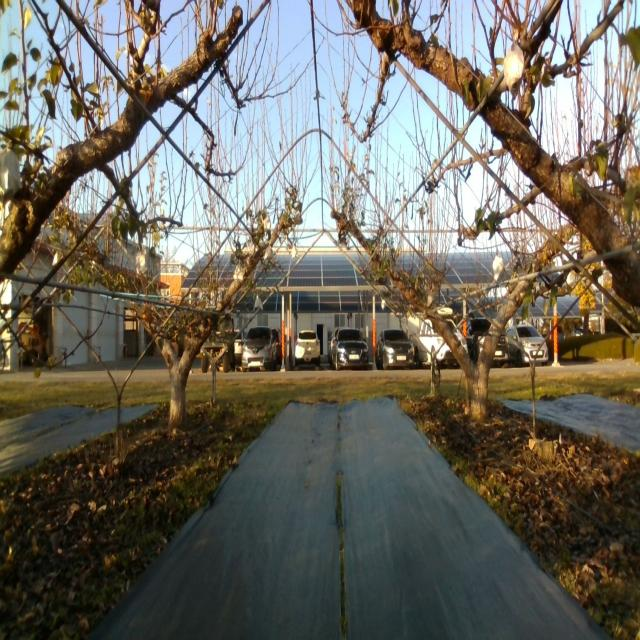pearbags: (0, 147, 22, 206), (504, 40, 525, 100), (493, 255, 505, 282), (136, 250, 148, 274), (233, 262, 243, 280)
